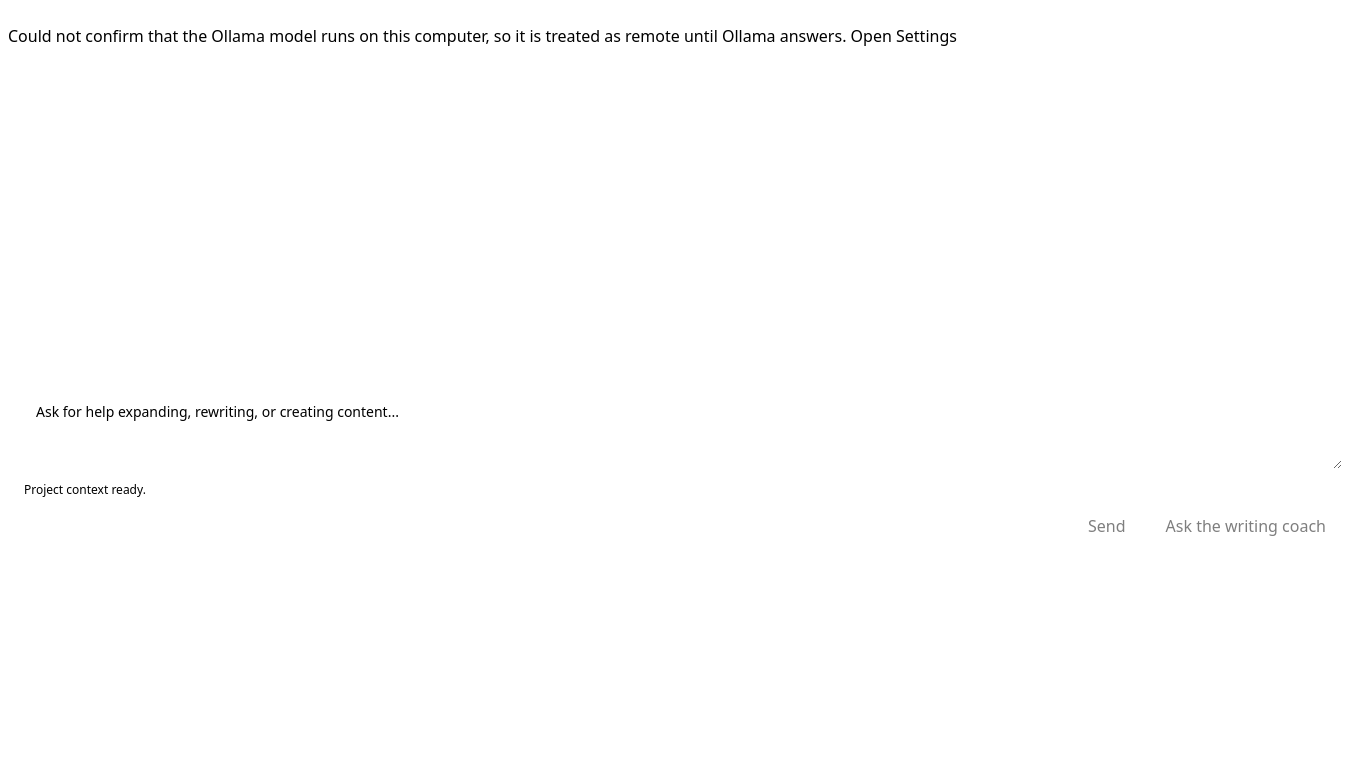
Test: AIAssistant factual lookup integration › answers D-4 from ordered saved custody evidence without invoking the provider
The width and height of the screenshot is (1366, 768).
Expected: the text "Project context ready." is shown, x1=24 y1=481 x2=146 y2=498
Step 1. Type "Where is the Emberglass Key kept?" into the text box → (683, 429), box x1=24 y1=389 x2=1342 y2=469
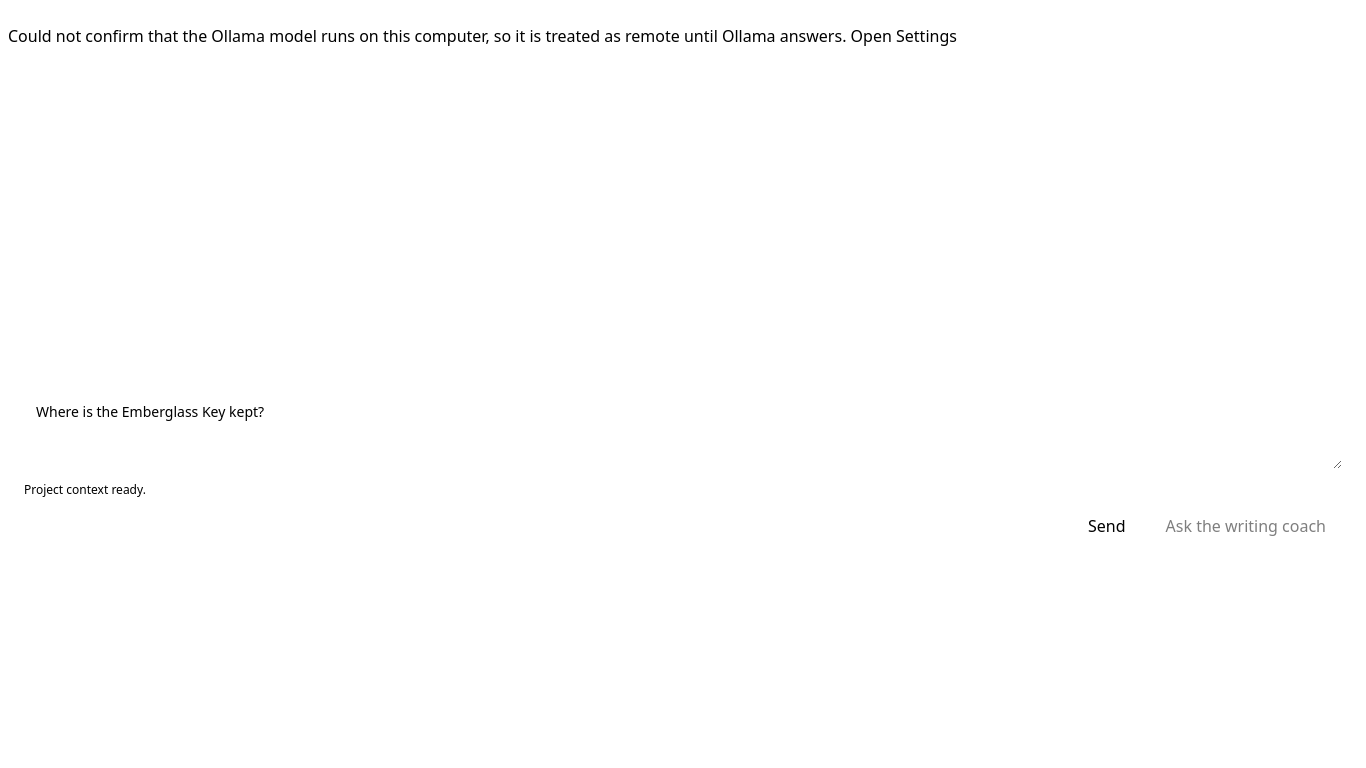
Step 2. Click the button "Send" → (1107, 526), box x1=1072 y1=507 x2=1142 y2=545
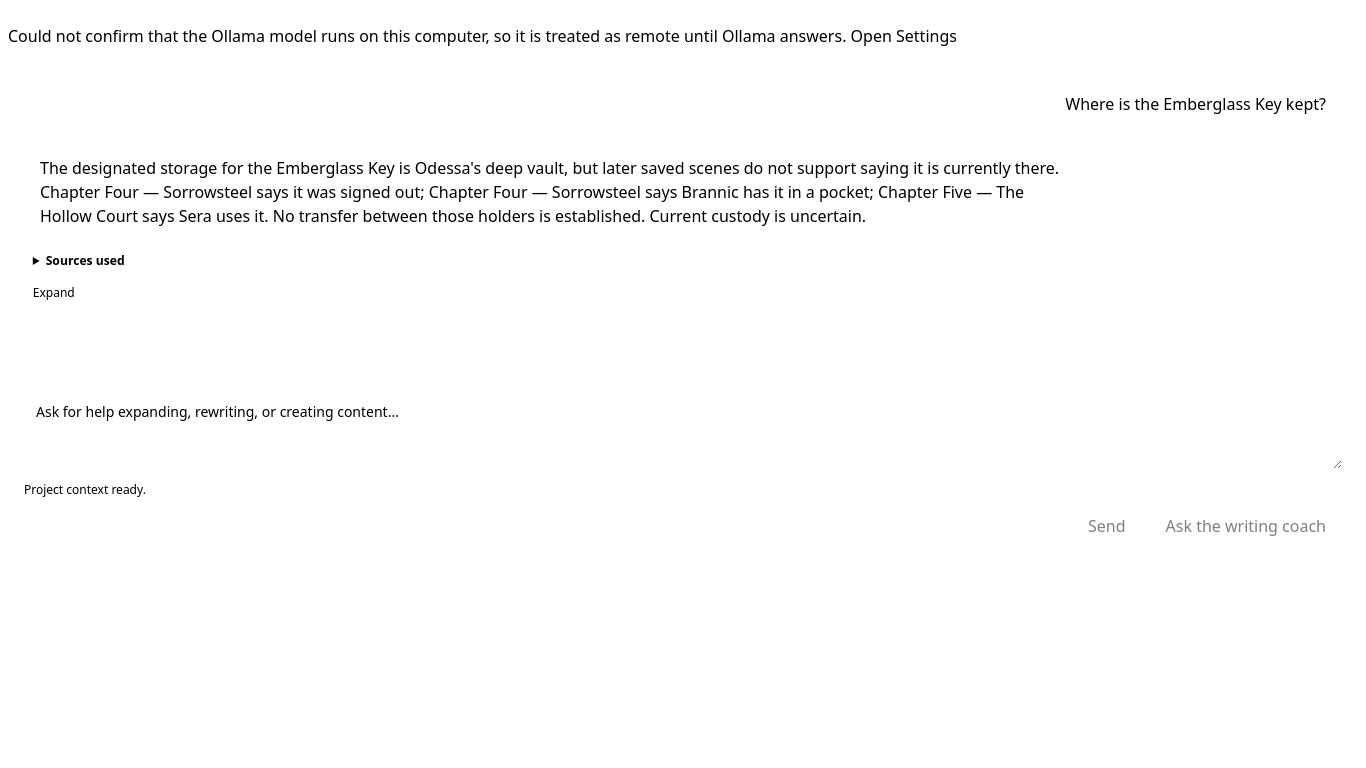
Expected: the text "current custody is uncertain" is shown, x1=40 y1=157 x2=1063 y2=227
Step 3. Click the heading "Sources used" → (85, 260), box x1=46 y1=252 x2=125 y2=269
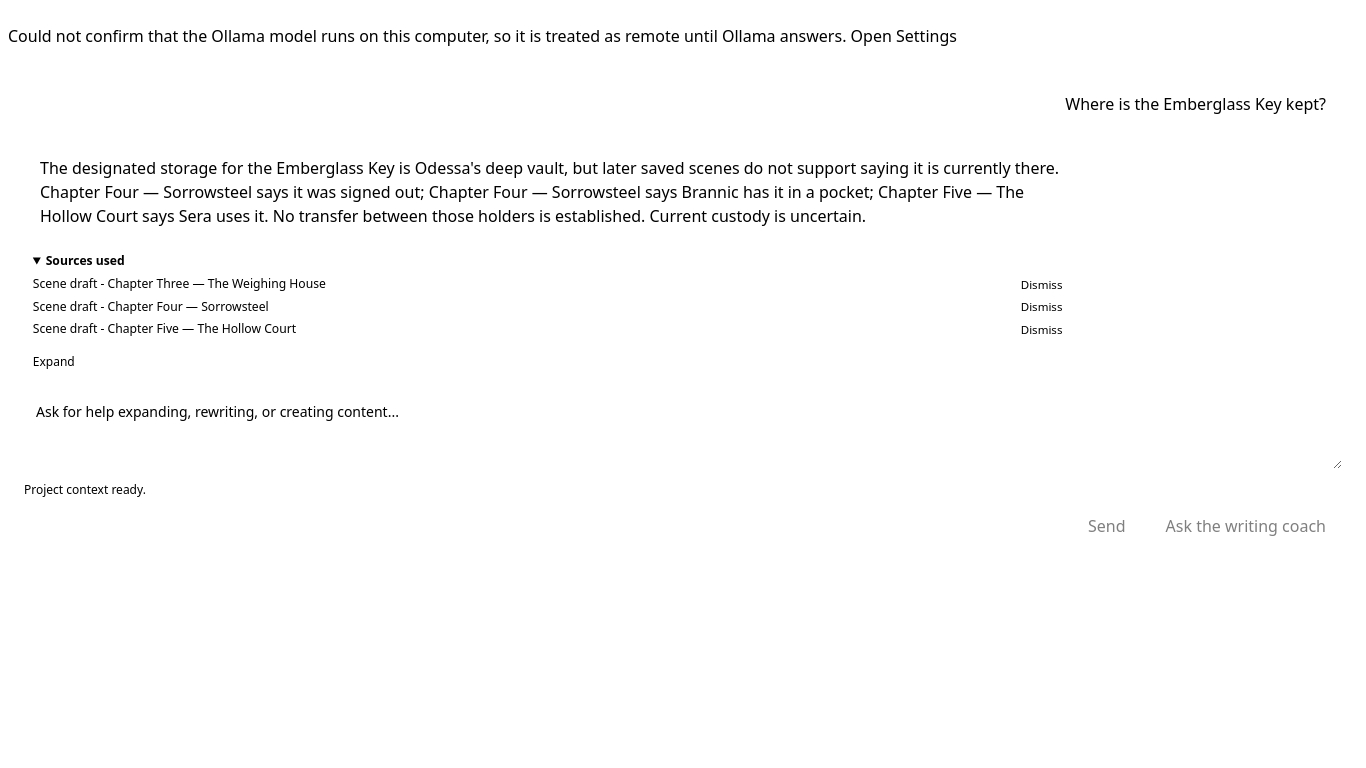
Expected: the text "Scene draft - Chapter Three — The Weighing House" is shown, x1=33 y1=276 x2=326 y2=292
Expected: the text "Scene draft - Chapter Four — Sorrowsteel" is shown, x1=33 y1=298 x2=269 y2=315
Expected: the text "Scene draft - Chapter Five — The Hollow Court" is shown, x1=33 y1=320 x2=296 y2=337
